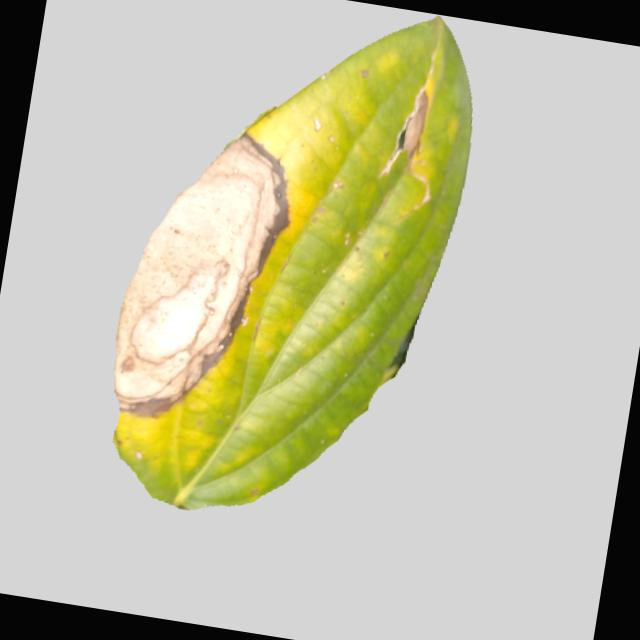leaf-blight: (74, 0, 495, 541)
